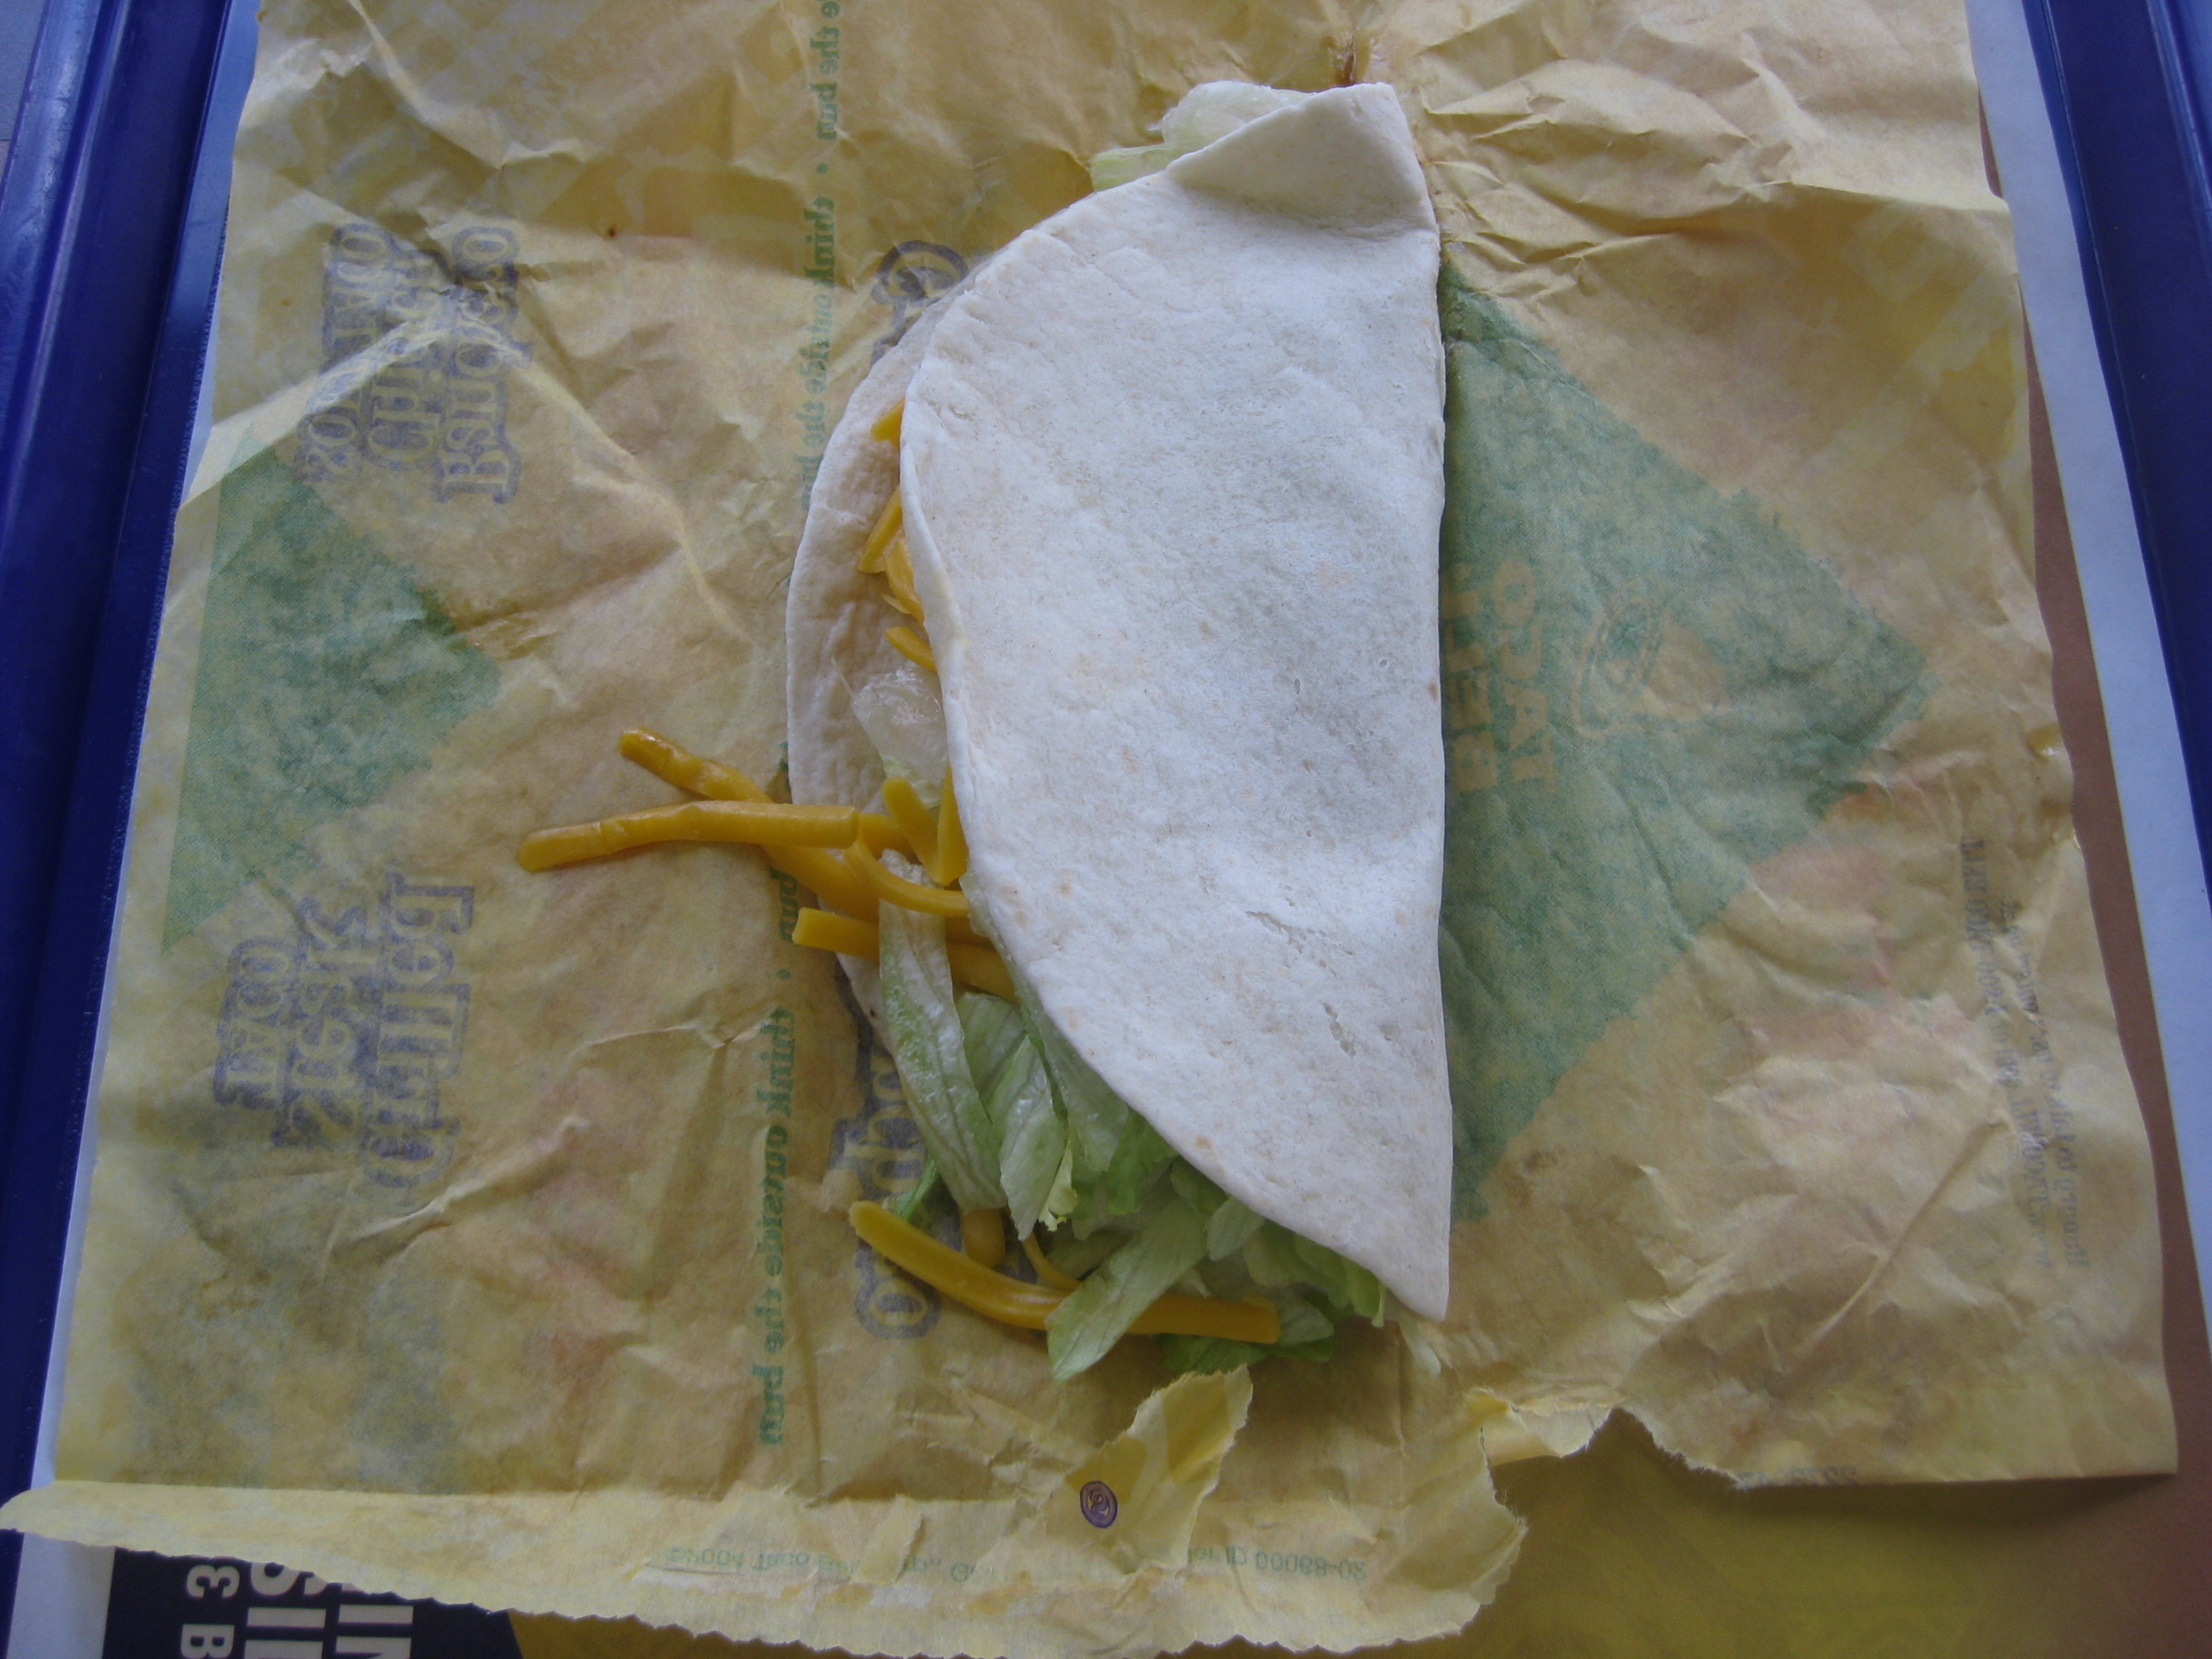taco: (684, 55, 1753, 1423)
